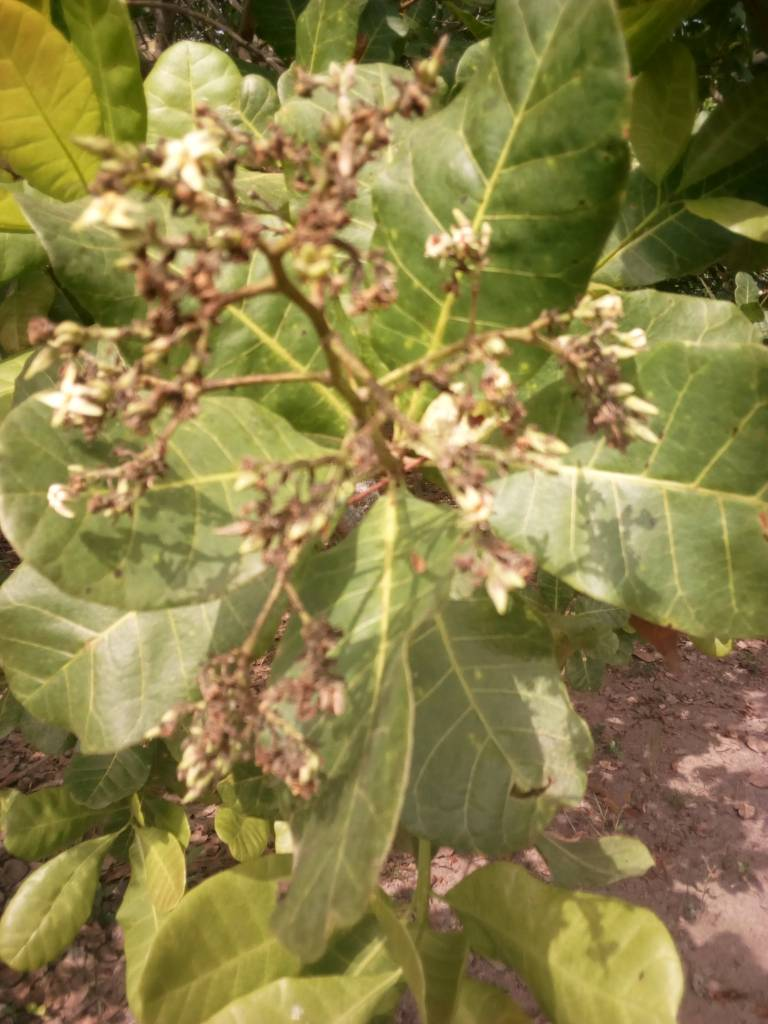Helopeltis anacardii: (444, 332, 647, 594), (36, 241, 205, 522), (135, 113, 386, 266), (185, 614, 343, 794)
